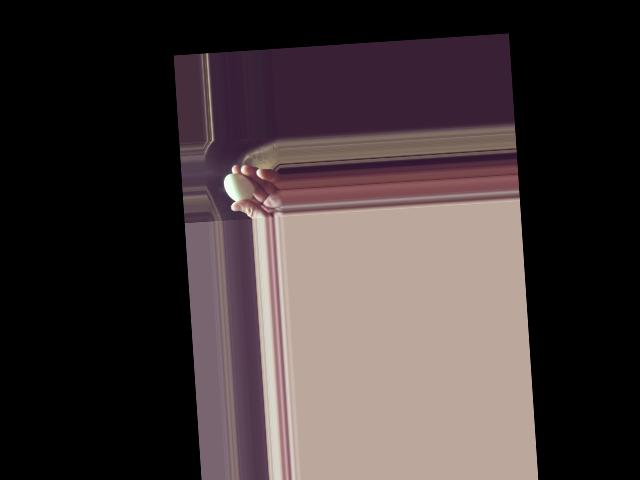egg: (223, 172, 255, 202)
